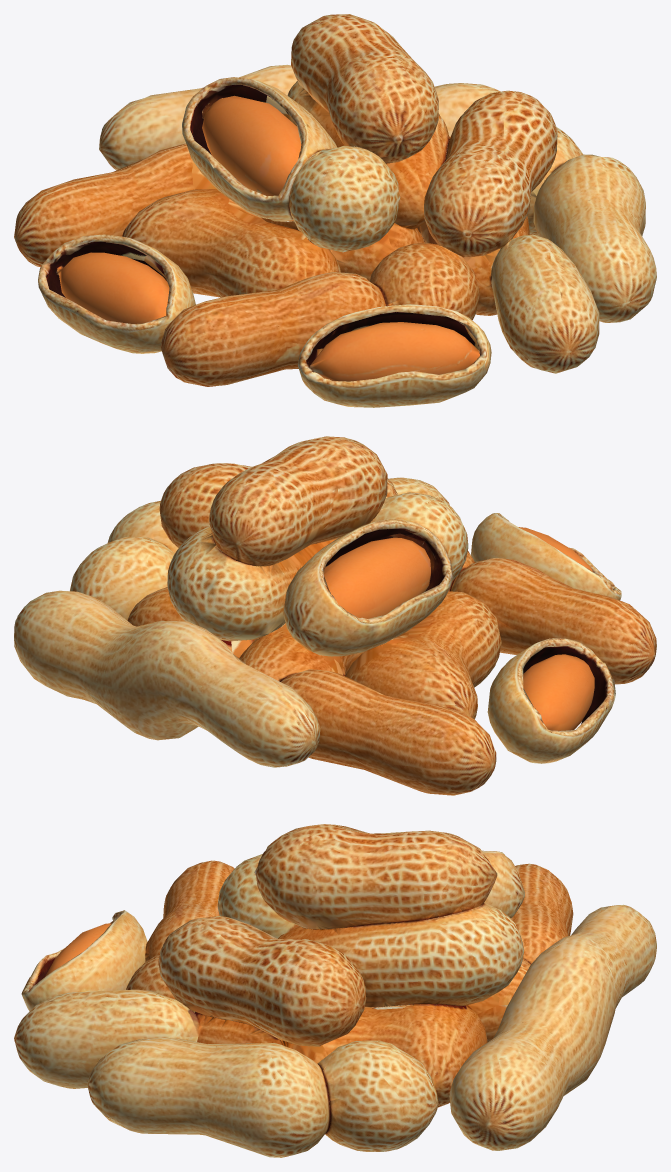
Rendered from beer-peanut.glb.
3 renders of one model, top to bottom at view 1: azimuth 30°, elevation 25°; view 2: azimuth 150°, elevation 25°; view 3: azimuth 270°, elevation 25°, orthographic. The views are drawn at different scales.
Visible parts, largest first — view 1: mesh; view 2: mesh; view 3: mesh.
Part boxes in pixels (bbox=[...]): mesh: bbox=[14, 14, 656, 407]; mesh: bbox=[14, 436, 656, 795]; mesh: bbox=[14, 824, 656, 1157].
Size of the model in its own units: 1.96 by 0.7985 by 2.
Materials: 1 (1 with a texture image).
